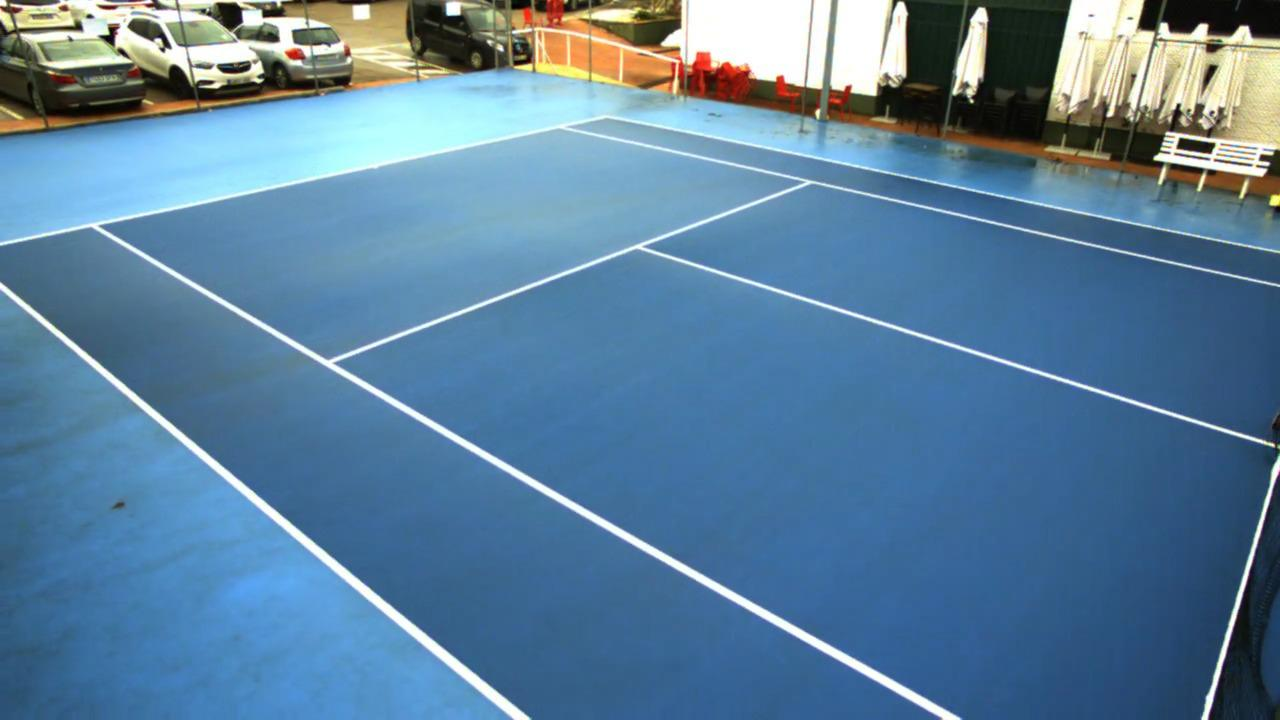cancha_tenis: (92, 125, 1280, 719)
point_f1: (79, 214, 105, 236)
point_f2: (549, 116, 577, 139)
point_fc1: (366, 159, 384, 176)
point_i1: (318, 350, 346, 374)
point_i2: (789, 171, 823, 192)
point_ic1: (627, 232, 660, 259)
